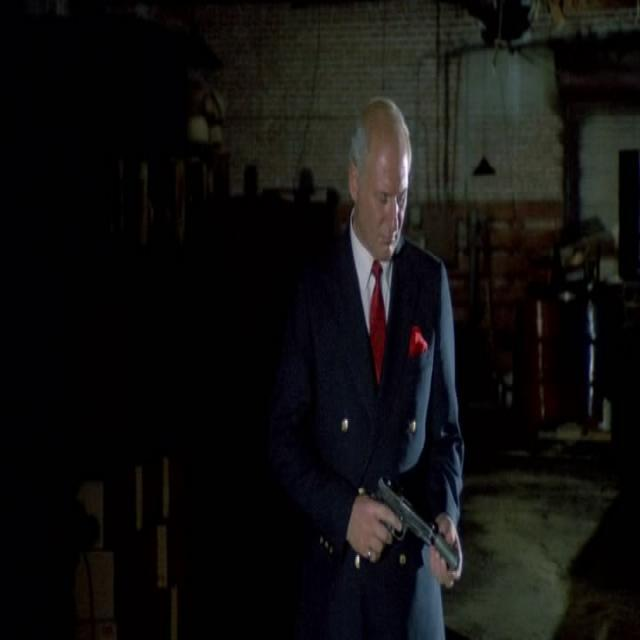gun-knife-thesis - v11 Yolov5 augmented: (341, 465, 459, 599)
